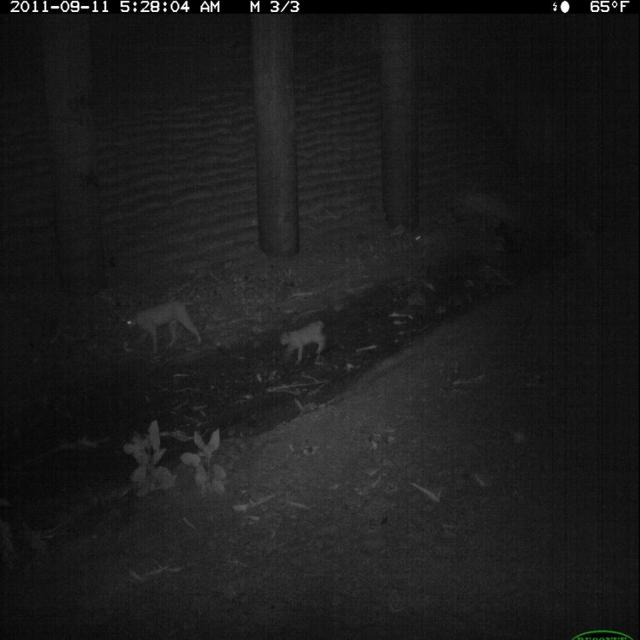bobcat: (122, 292, 208, 365), (278, 317, 331, 371), (408, 217, 456, 265)
